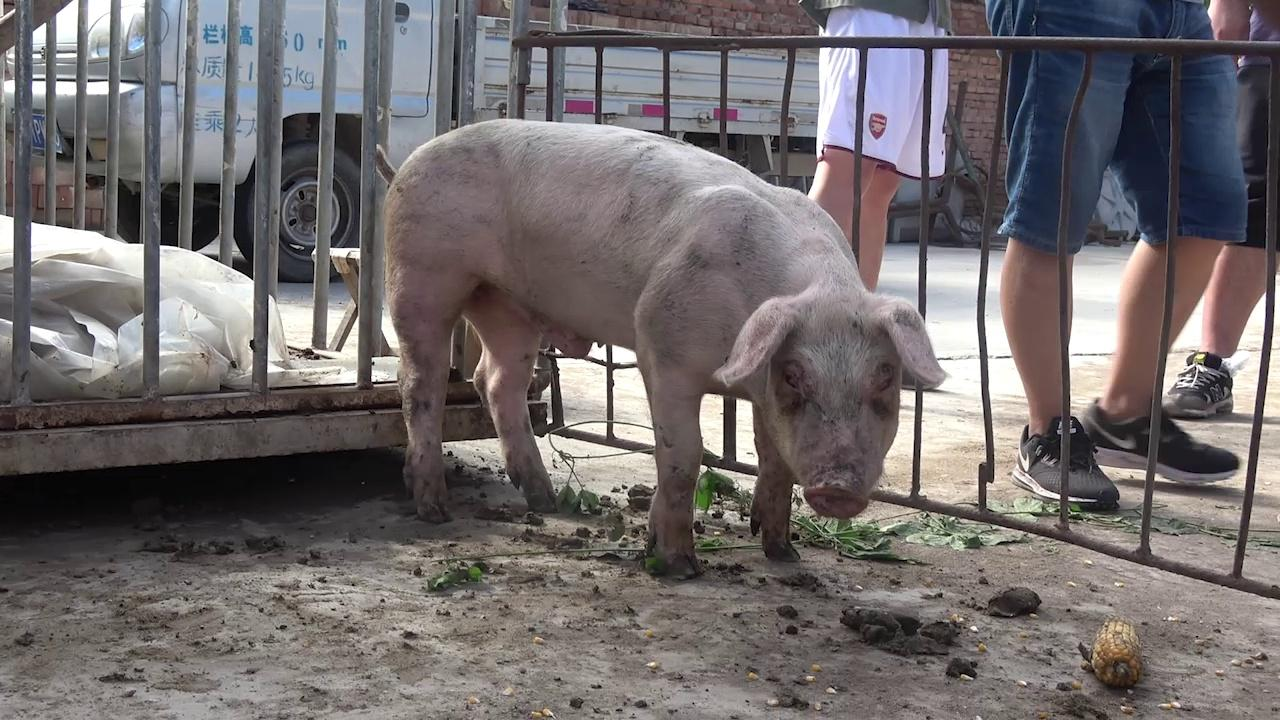Face: (712, 283, 947, 532)
